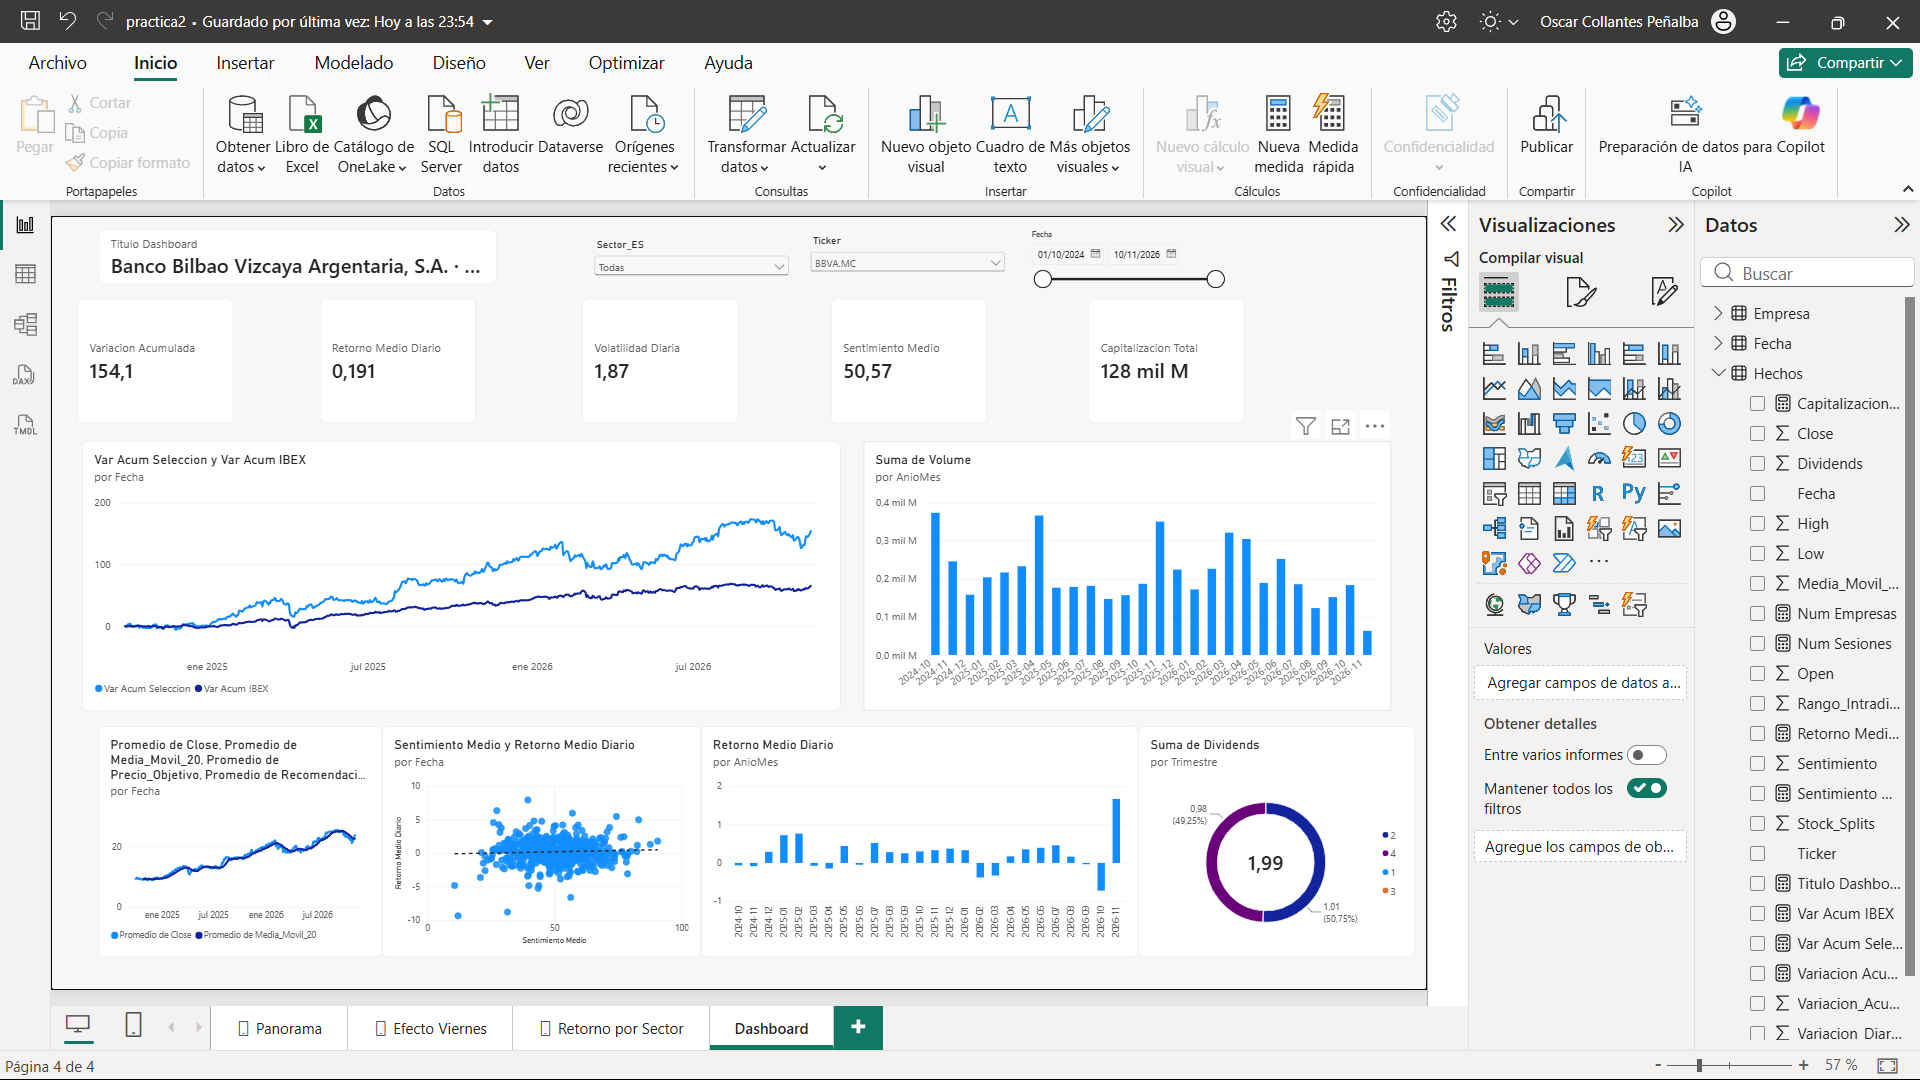

Layout of this report page (visuals, bound fields, positions):
{"tool":"powerbi","page":{"name":"Dashboard","canvas":[1920,1080],"ordinal":3},"visuals":[{"type":"slicer","fields":{"Values":["Empresa.Sector_ES"]},"box":[753.5,31.4,280.8,68],"z":0},{"type":"slicer","fields":{"Values":["Empresa.Ticker"]},"box":[1055.2,26.2,280.8,80.2],"z":1000},{"type":"slicer","fields":{"Values":["Fecha.Fecha"]},"box":[1360.5,19.2,280.8,95.9],"z":2000},{"type":"cardVisual","fields":{"Data":["Hechos.Variacion Acumulada"]},"box":[36.6,115.1,218,174.4],"z":3000},{"type":"cardVisual","fields":{"Data":["Hechos.Retorno Medio Diario"]},"box":[375,115.1,218,174.4],"z":4000},{"type":"cardVisual","fields":{"Data":["Hechos.Volatilidad Diaria"]},"box":[741.3,115.1,218,174.4],"z":5000},{"type":"cardVisual","fields":{"Data":["Hechos.Sentimiento Medio"]},"box":[1088.4,115.1,218,174.4],"z":6000},{"type":"cardVisual","fields":{"Data":["Hechos.Capitalizacion Total"]},"box":[1447.7,115.1,218,174.4],"z":7000},{"type":"lineChart","fields":{"Category":["Fecha.Fecha"],"Y":["Hechos.Var Acum Seleccion","Hechos.Var Acum IBEX"]},"box":[43.6,314,1058.7,376.7],"z":8000},{"type":"clusteredColumnChart","fields":{"Category":["Fecha.AnioMes"],"Y":["Sum(Hechos.Volume)"]},"box":[1133.7,314,736,376.7],"z":9000},{"type":"lineChart","fields":{"Category":["Fecha.Fecha"],"Y":["Avg(Hechos.Close)","Avg(Hechos.Media_Movil_20)"]},"box":[66.3,711.6,395.9,322.7],"z":10000},{"type":"scatterChart","fields":{"Category":["Fecha.Fecha"],"X":["Hechos.Sentimiento Medio"],"Y":["Hechos.Retorno Medio Diario"]},"box":[462.2,711.6,444.8,322.7],"z":11000},{"type":"clusteredColumnChart","fields":{"Category":["Fecha.AnioMes"],"Y":["Hechos.Retorno Medio Diario"]},"box":[907,711.6,610.5,322.7],"z":12000},{"type":"donutChart","fields":{"Category":["Fecha.Trimestre"],"Y":["Sum(Hechos.Dividends)"]},"box":[1517.4,711.6,385.5,322.7],"z":13000},{"type":"cardVisual","fields":{"Data":["Hechos.Titulo Dashboard"]},"box":[66.3,19.2,556.4,75],"z":13001}]}

Visuals, with their boxes on the page's 1920x1080 design canvas (x1, y1, x2, y2). These are canvas units, not pixel positions in the 1920x1080 screenshot, which may show the page scaled, cropped or inside an application window:
slicer - Empresa.Sector_ES: {"x1": 754, "y1": 31, "x2": 1034, "y2": 99}
slicer - Empresa.Ticker: {"x1": 1055, "y1": 26, "x2": 1336, "y2": 106}
slicer - Fecha.Fecha: {"x1": 1360, "y1": 19, "x2": 1641, "y2": 115}
cardVisual - Hechos.Variacion Acumulada: {"x1": 37, "y1": 115, "x2": 255, "y2": 290}
cardVisual - Hechos.Retorno Medio Diario: {"x1": 375, "y1": 115, "x2": 593, "y2": 290}
cardVisual - Hechos.Volatilidad Diaria: {"x1": 741, "y1": 115, "x2": 959, "y2": 290}
cardVisual - Hechos.Sentimiento Medio: {"x1": 1088, "y1": 115, "x2": 1306, "y2": 290}
cardVisual - Hechos.Capitalizacion Total: {"x1": 1448, "y1": 115, "x2": 1666, "y2": 290}
lineChart - Fecha.Fecha x Hechos.Var Acum Seleccion: {"x1": 44, "y1": 314, "x2": 1102, "y2": 691}
clusteredColumnChart - Fecha.AnioMes x Sum(Hechos.Volume): {"x1": 1134, "y1": 314, "x2": 1870, "y2": 691}
lineChart - Fecha.Fecha x Avg(Hechos.Close): {"x1": 66, "y1": 712, "x2": 462, "y2": 1034}
scatterChart - Fecha.Fecha x Hechos.Sentimiento Medio: {"x1": 462, "y1": 712, "x2": 907, "y2": 1034}
clusteredColumnChart - Fecha.AnioMes x Hechos.Retorno Medio Diario: {"x1": 907, "y1": 712, "x2": 1518, "y2": 1034}
donutChart - Fecha.Trimestre x Sum(Hechos.Dividends): {"x1": 1517, "y1": 712, "x2": 1903, "y2": 1034}
cardVisual - Hechos.Titulo Dashboard: {"x1": 66, "y1": 19, "x2": 623, "y2": 94}
